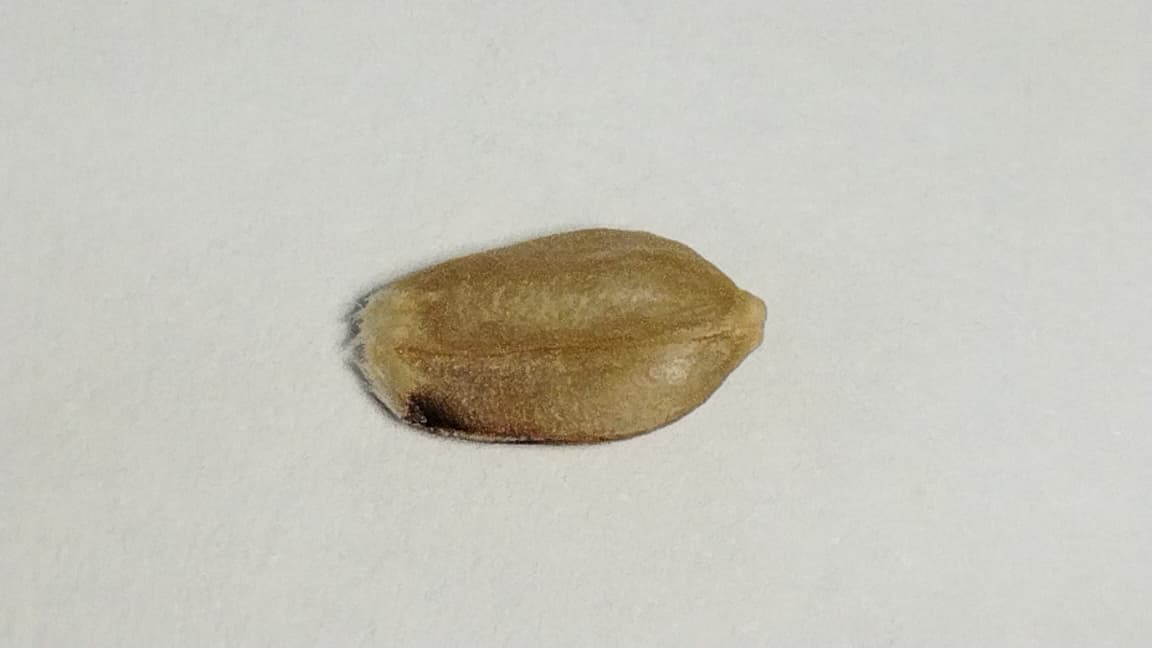black_point: (387, 381, 578, 455)
healthy: (352, 229, 764, 442)
